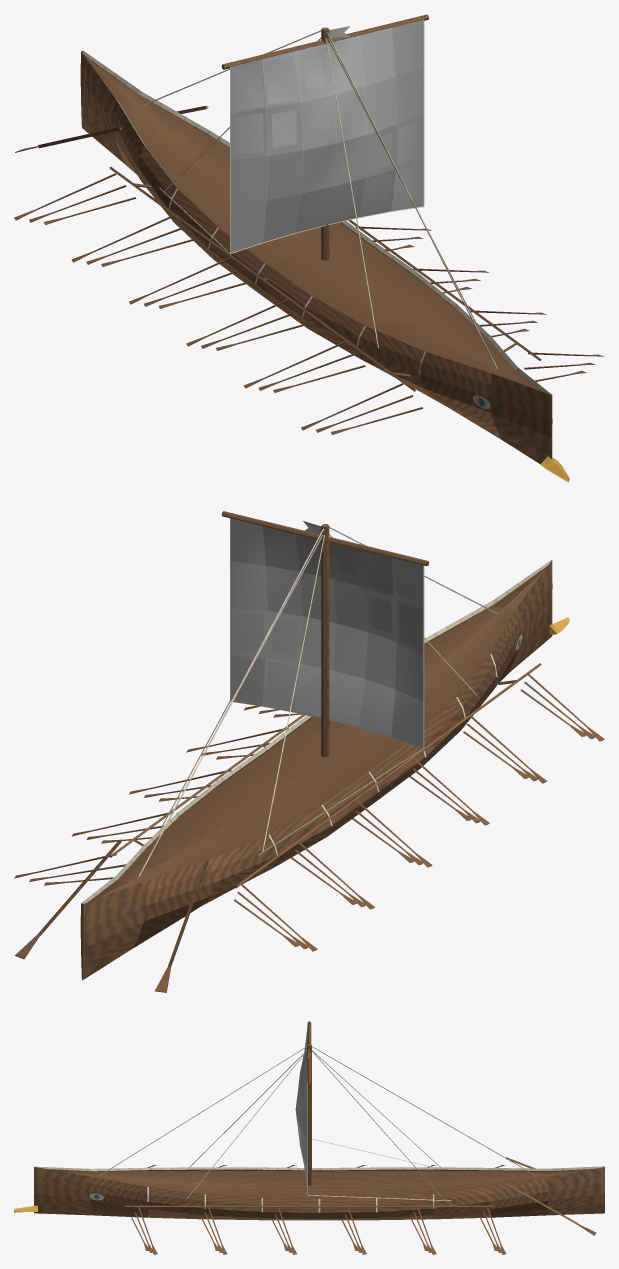
The model's file is warship-classical-40f55298.glb.
3 renders of one model, top to bottom at view 1: azimuth 30°, elevation 25°; view 2: azimuth 150°, elevation 25°; view 3: azimuth 270°, elevation 25°, orthographic. The views are drawn at different scales.
Visible parts, largest first — view 1: LOD0; view 2: LOD0; view 3: LOD0.
Part boxes in pixels (x1=…): LOD0: x1=14, y1=14, x2=603, y2=482; LOD0: x1=14, y1=511, x2=604, y2=992; LOD0: x1=14, y1=1021, x2=604, y2=1254.
Size of what is drawn, in the model's own units: 1.33 by 1.18 by 3.7.
Materials: 2 (2 with a texture image).
